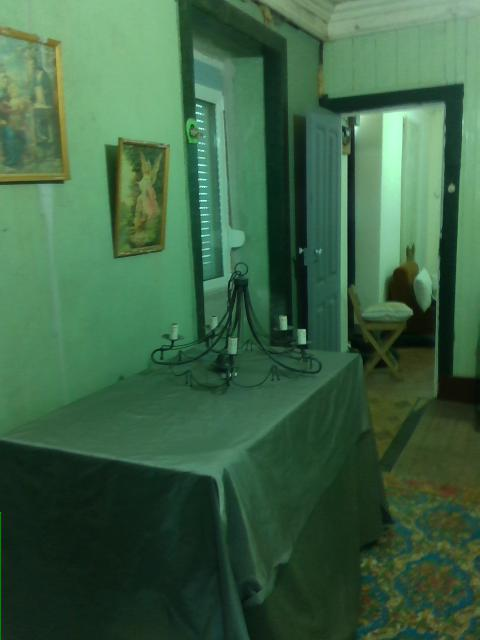door: (296, 105, 338, 351)
